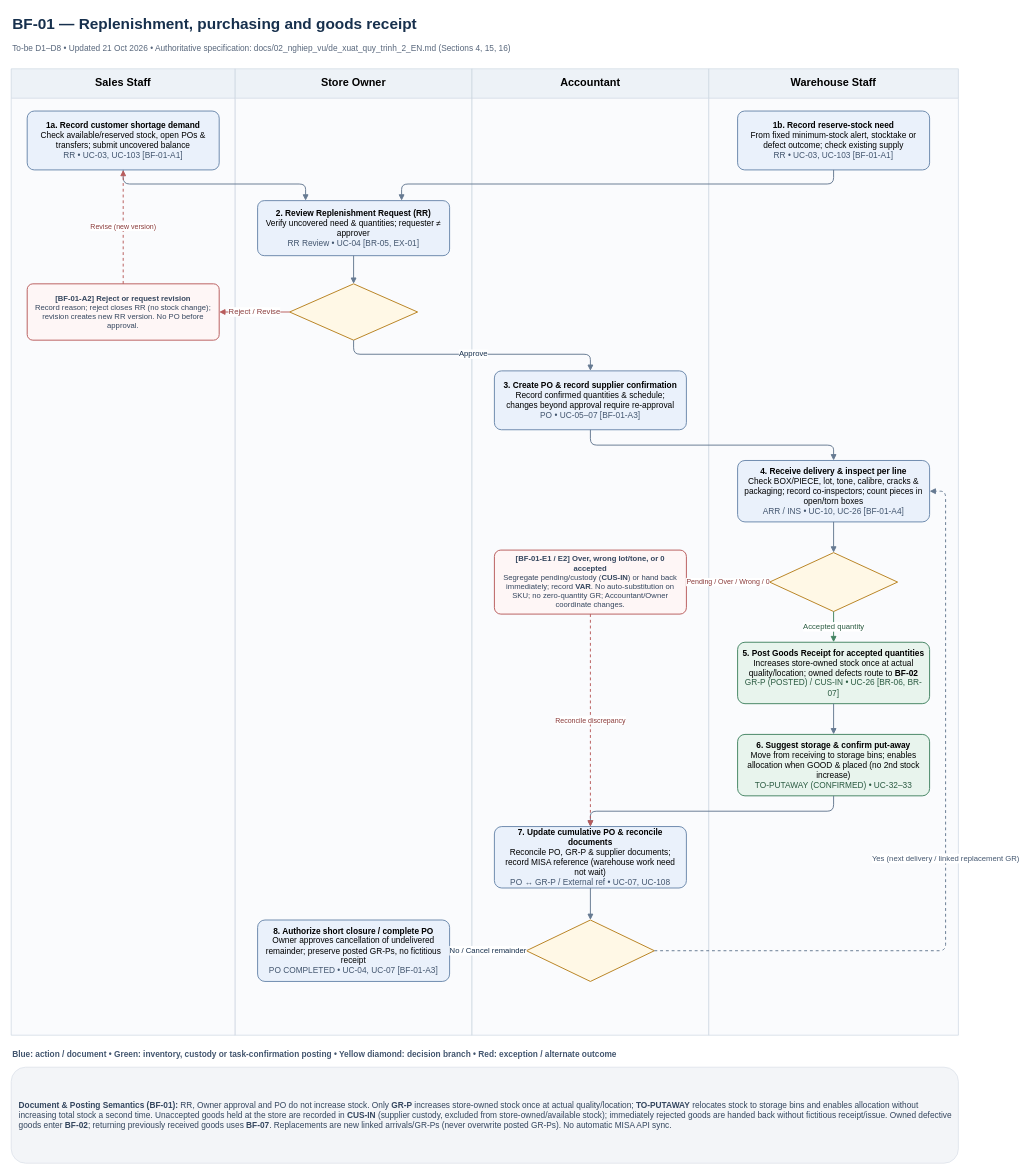
The diagram is 1030 pixels wide and 1174 high, and some of its shapes have lost their labels. Here are the shapes that lost their labels. From the top down, the centre of each, then its label:
point 353,311: RR approved? UC-04
point 833,582: Classify each delivered quantity
point 590,950: Further delivery or replacement? [BF-01-A3, A4]
